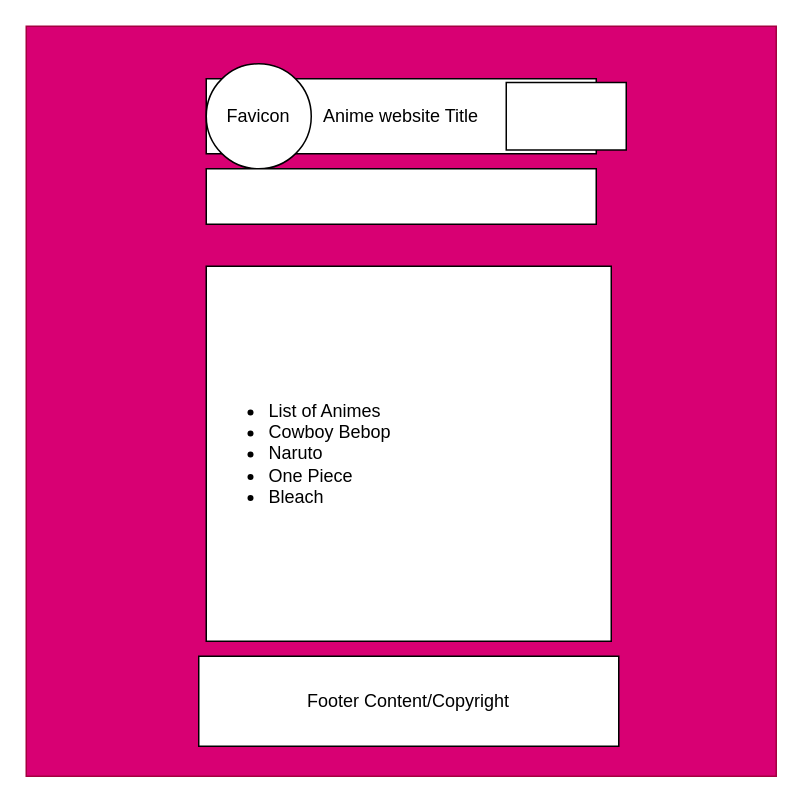
The diagram is 803 pixels wide and 803 high, and some of its shapes have lost their labels. The box of each missing label's shape, as (x1, y1, x2, y2) in pixels:
Hamburger menu Search: (505, 81, 626, 150)
Search Bar with Filter Results: (205, 167, 596, 224)
